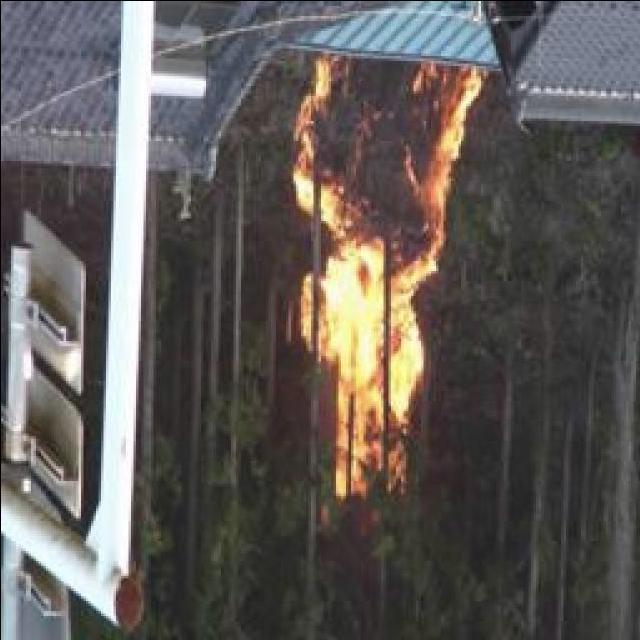Fire: (288, 58, 466, 500)
